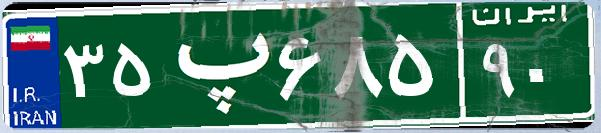0: (525, 38, 570, 115)
3: (57, 26, 110, 107)
5: (385, 28, 445, 110), (110, 28, 158, 105)
6: (273, 28, 330, 110)
8: (330, 28, 385, 110)
9: (475, 38, 525, 113)
پ: (158, 15, 273, 115)
